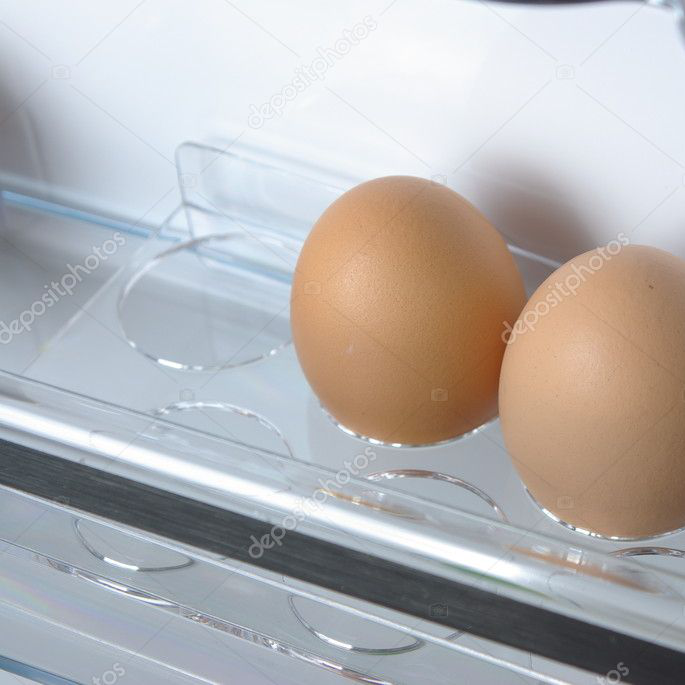egg: (285, 170, 685, 550)
